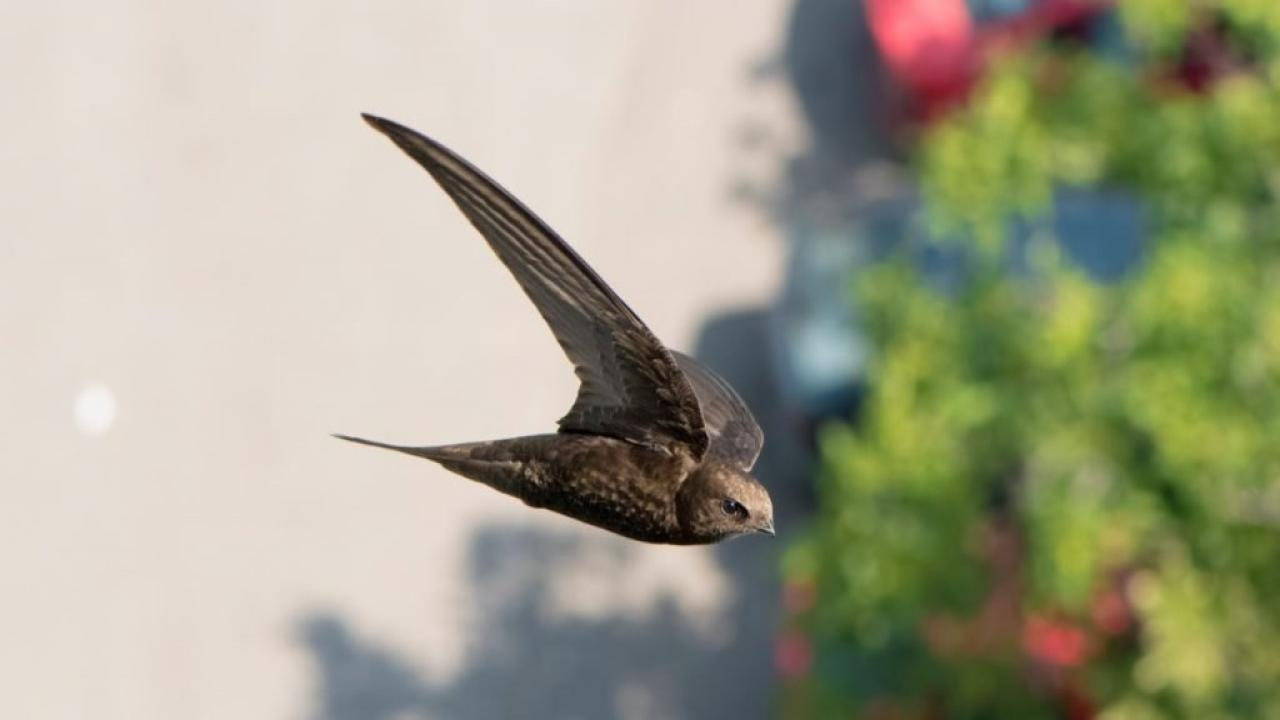Bird: (320, 103, 789, 554)
